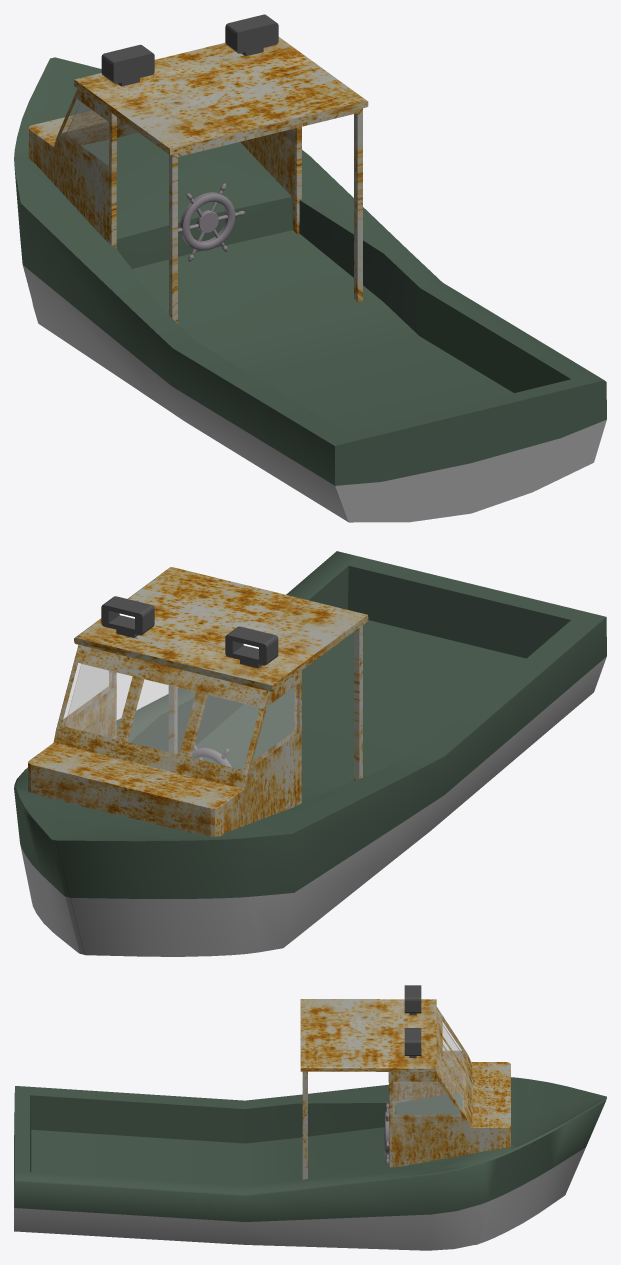
The model's file is boat.glb.
3 views of the same model, one above another, from view 1: azimuth 30°, elevation 25°; view 2: azimuth 150°, elevation 25°; view 3: azimuth 270°, elevation 25° (orthographic). The views are drawn at different scales.
Parts seen in each view (by area): view 1: boat; view 2: boat; view 3: boat.
Boxes of the visible parts, x1,y1,x2,y2 form: boat: (14,14,606,522); boat: (14,551,606,956); boat: (14,985,606,1250).
Size of the model in its own units: 2.89 by 3.03 by 7.7.
7 materials, 1 textured.
